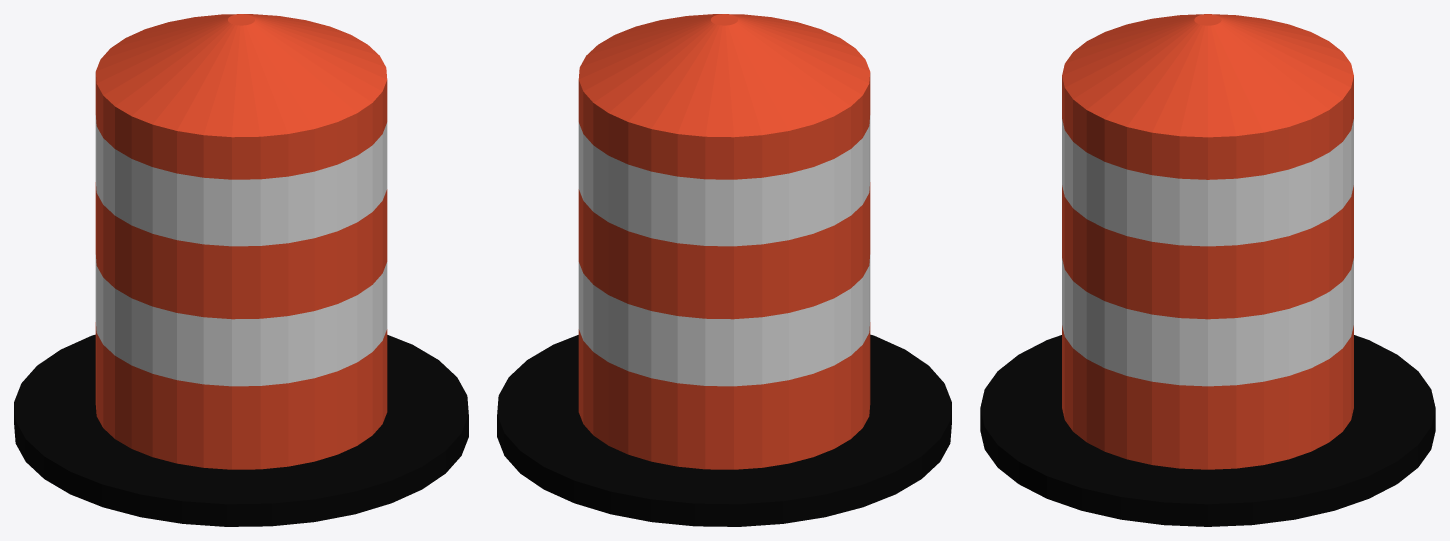
Rendered from obs-4.fbx.
The picture shows the model from 3 angles, left to right: view 1: azimuth 30°, elevation 25°; view 2: azimuth 150°, elevation 25°; view 3: azimuth 270°, elevation 25°; orthographic projection.
Visible parts, largest first — view 1: Circle; view 2: Circle; view 3: Circle.
Boxes of the visible parts, <box> form: Circle: <box>14,14,468,526</box>; Circle: <box>497,14,951,526</box>; Circle: <box>980,14,1435,526</box>.
Bounding box in the file's own units: 200 × 199 × 200.
